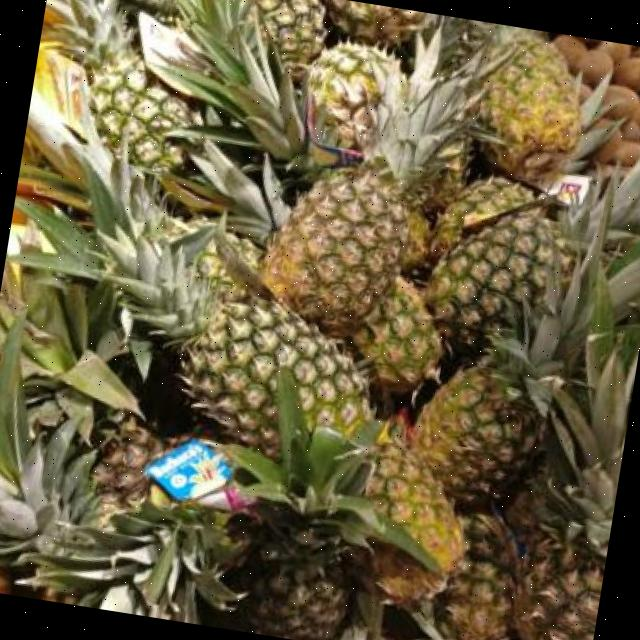pineapple: (17, 165, 373, 452), (262, 35, 471, 337), (414, 255, 640, 504), (231, 371, 440, 640), (426, 161, 640, 354), (514, 338, 638, 640), (40, 0, 199, 170), (480, 29, 581, 185), (366, 424, 463, 574), (306, 42, 400, 151), (353, 277, 442, 392), (435, 513, 512, 640), (560, 74, 623, 174), (443, 179, 549, 236), (256, 0, 325, 77), (377, 548, 446, 604), (552, 176, 589, 204)
